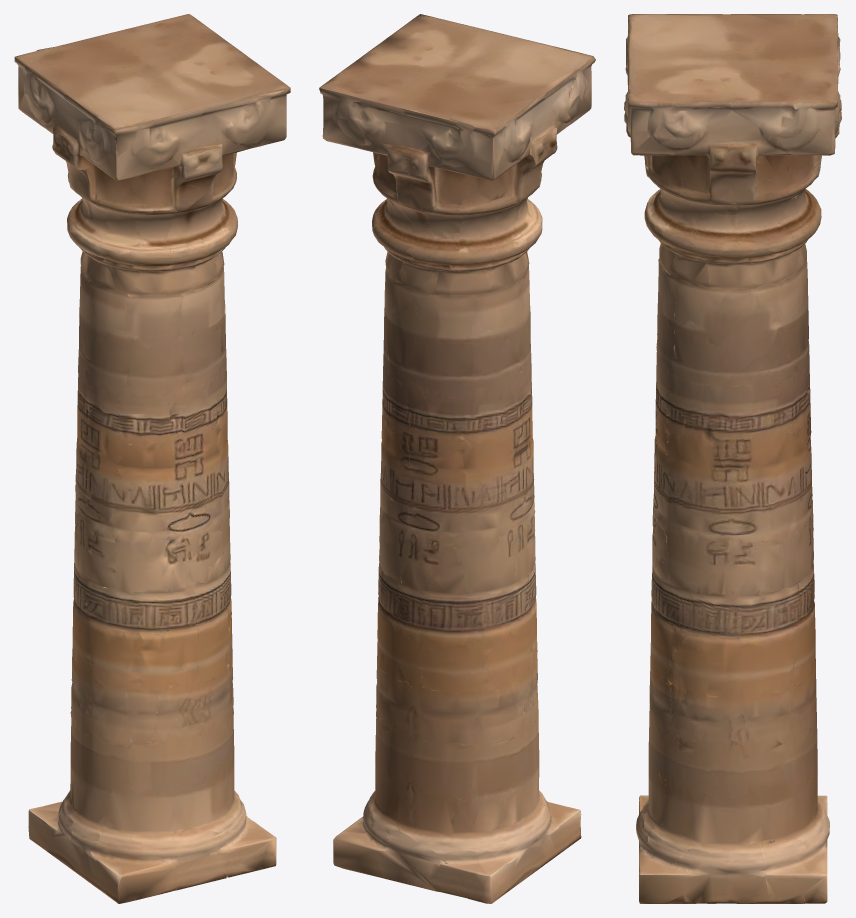
The model's file is pillar_dec.glb.
3 renders of one model, left to right at view 1: azimuth 30°, elevation 25°; view 2: azimuth 150°, elevation 25°; view 3: azimuth 270°, elevation 25°, orthographic. The views are drawn at different scales.
Parts seen in each view (by area): view 1: Mesh_0.008; view 2: Mesh_0.008; view 3: Mesh_0.008.
Boxes of the visible parts, bbox=[...] form: Mesh_0.008: bbox=[14, 14, 290, 903]; Mesh_0.008: bbox=[319, 14, 595, 903]; Mesh_0.008: bbox=[624, 14, 841, 903].
Bounding box in the file's own units: 0.4674 × 1.91 × 0.4681.
Materials: 1 (1 with a texture image).
